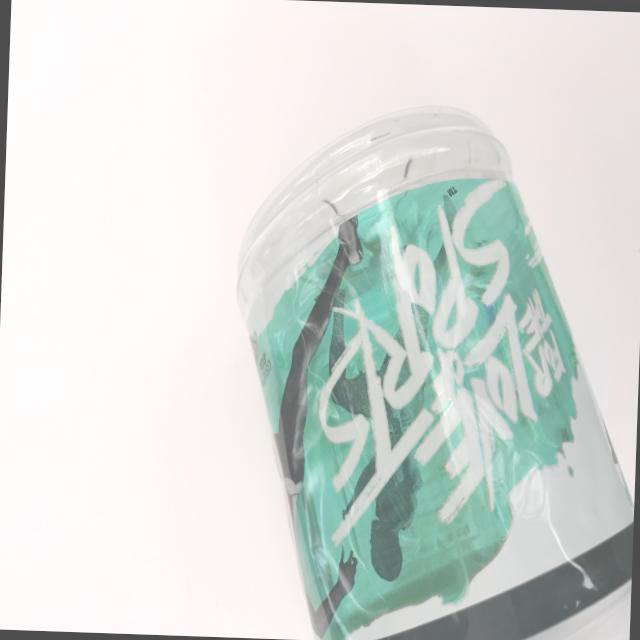plastic: (216, 71, 640, 640)
